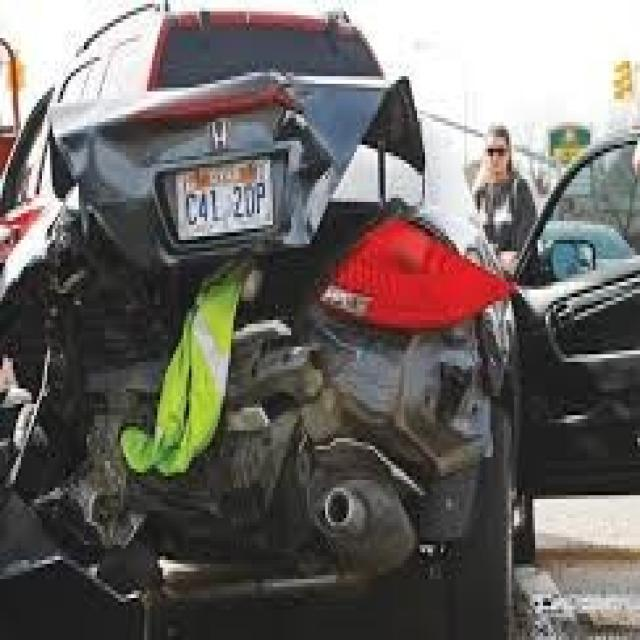severe: (47, 168, 523, 566)
